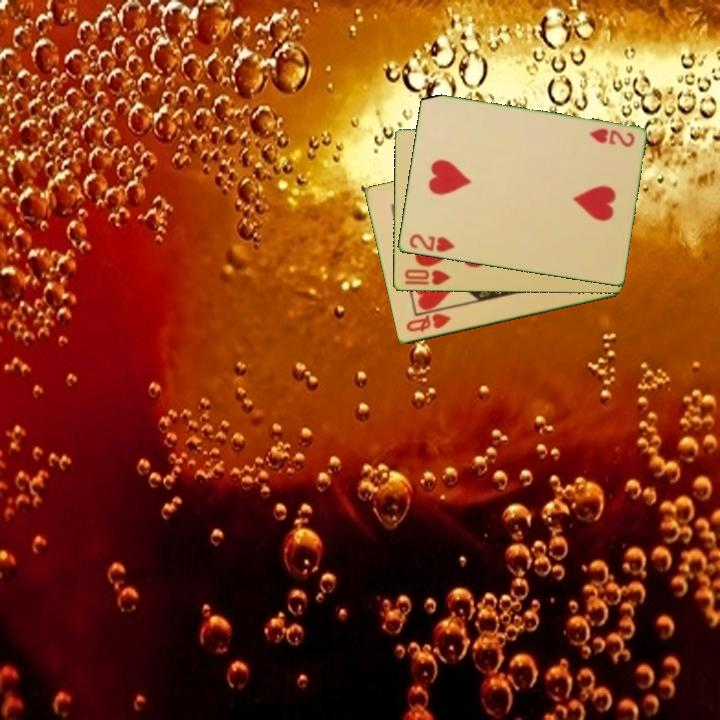10h: (400, 266, 453, 288)
2h: (405, 230, 457, 256), (585, 125, 637, 150)
Qh: (402, 310, 454, 336)
